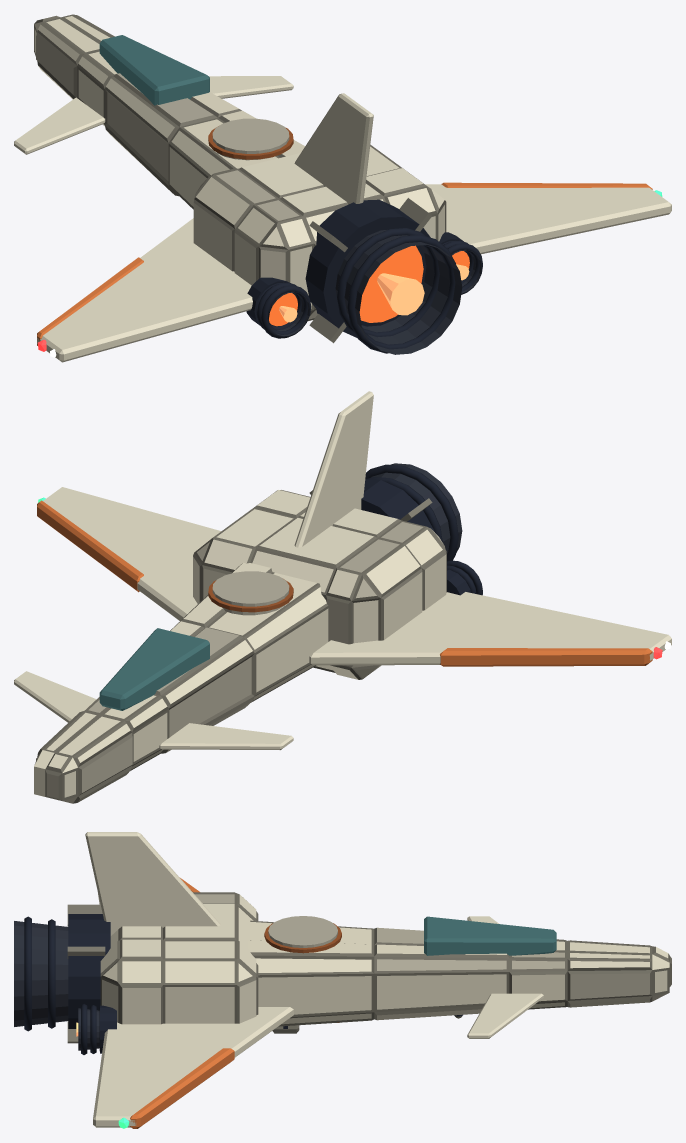
File: sparrow.glb
The picture shows the model from 3 angles, top to bottom: view 1: azimuth 30°, elevation 25°; view 2: azimuth 150°, elevation 25°; view 3: azimuth 270°, elevation 25°; orthographic projection. The views are drawn at different scales.
Visible parts, largest first — view 1: sparrow_mesh; view 2: sparrow_mesh; view 3: sparrow_mesh.
Boxes of the visible parts, box(x1,y1,x2,y2) form: sparrow_mesh: box(14, 14, 671, 362); sparrow_mesh: box(14, 391, 671, 803); sparrow_mesh: box(14, 832, 671, 1128).
Size of the model in its own units: 8.34 by 2.81 by 8.44.
